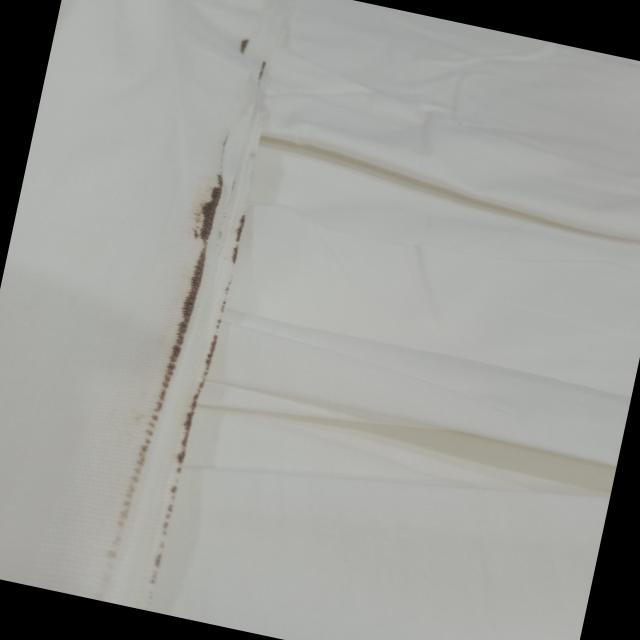stain: (88, 26, 301, 610)
